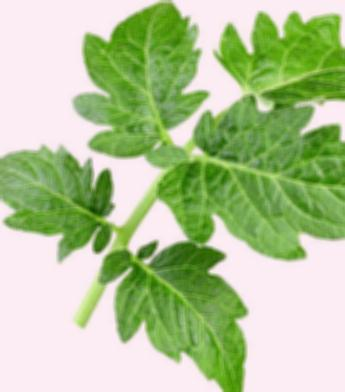Tomato leaf: (156, 96, 345, 282), (99, 217, 263, 392), (79, 0, 216, 181), (195, 0, 345, 146), (0, 142, 118, 272)
